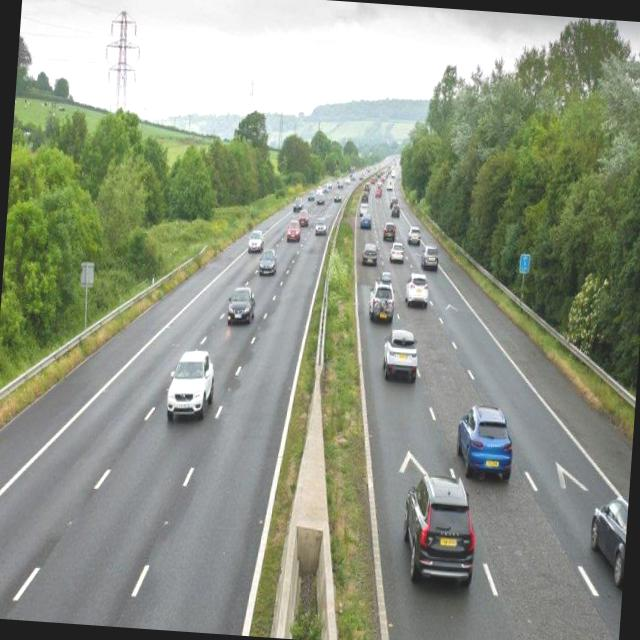Vehicle: (390, 459, 486, 596), (151, 340, 226, 440), (585, 484, 629, 602), (454, 406, 519, 467), (380, 321, 418, 402), (219, 282, 259, 334), (367, 268, 396, 328), (256, 240, 284, 288), (402, 268, 432, 308), (244, 210, 264, 253), (422, 236, 442, 270), (282, 218, 306, 245), (312, 215, 331, 244), (358, 238, 378, 264), (382, 214, 396, 242), (389, 242, 406, 262), (406, 219, 420, 241), (359, 210, 369, 228)
